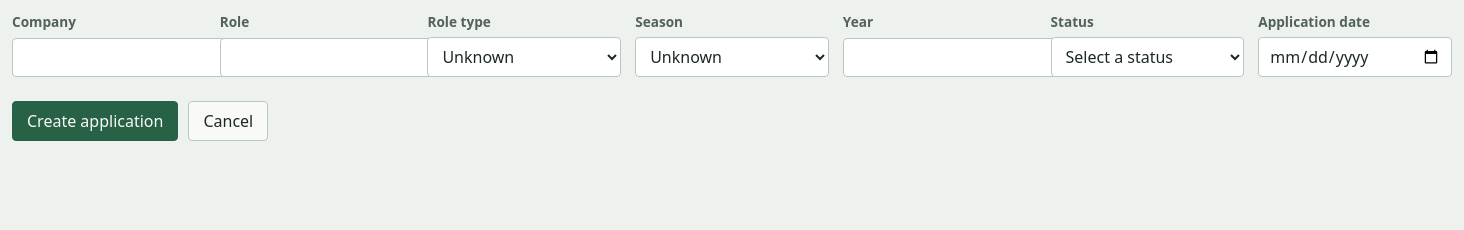
Test: rejects a fractional year
In the field labelled "Company": (138, 58) [12,38,265,77], type "Acme"
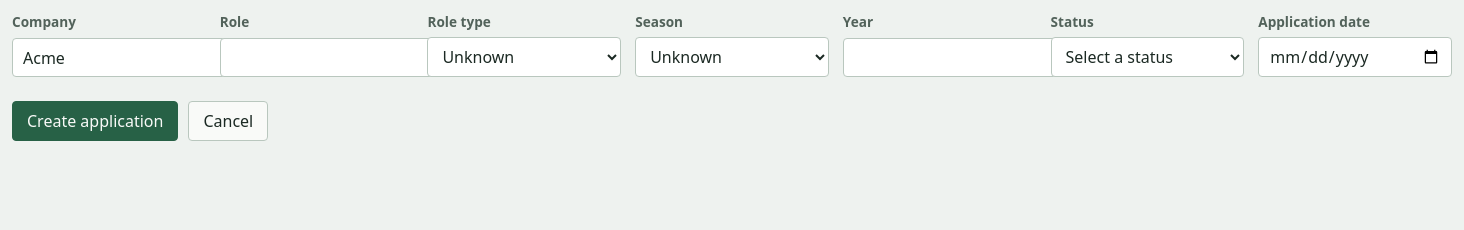
In the field labelled "Role": (346, 58) [220,38,473,77], type "Software Engineer Intern"
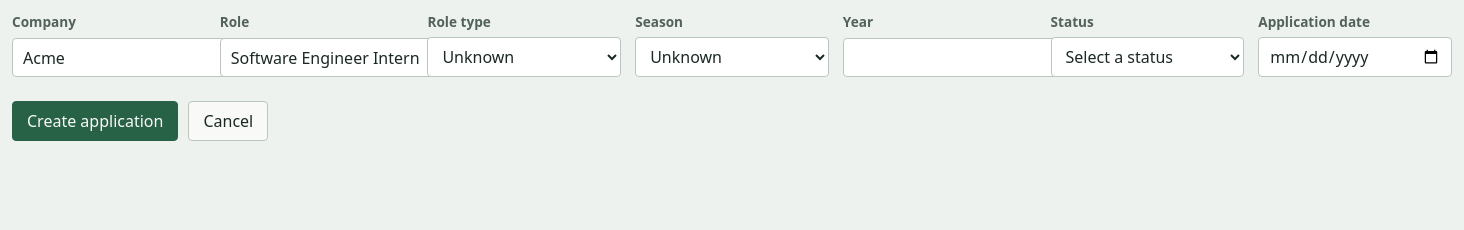
Select "Applied" in the dropdown labelled "Status": (1147, 57) [1051,37,1244,77]
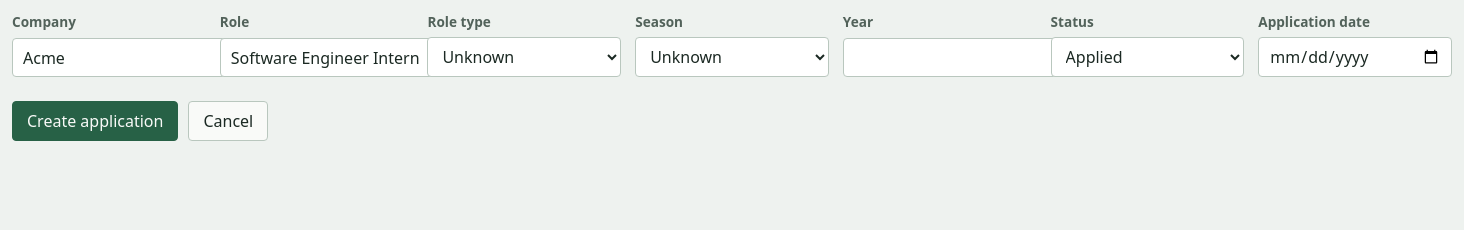
In the number field labelled "Year": (969, 58) [843,38,1096,77], type "2027.5"
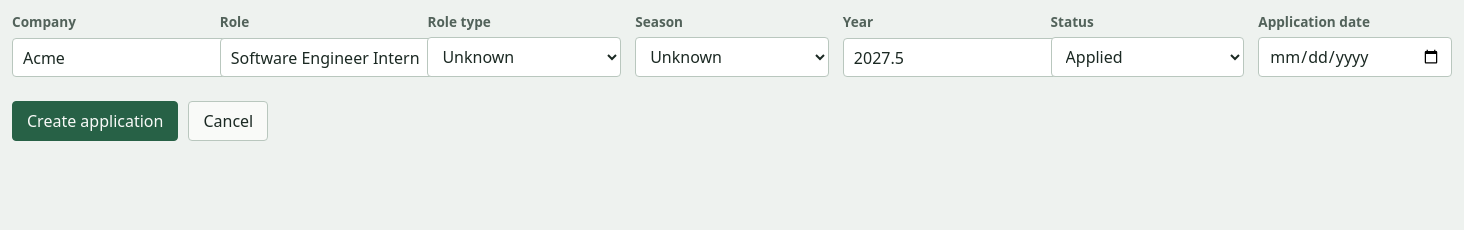
Click the button "Create application": (95, 121) [12,101,178,141]
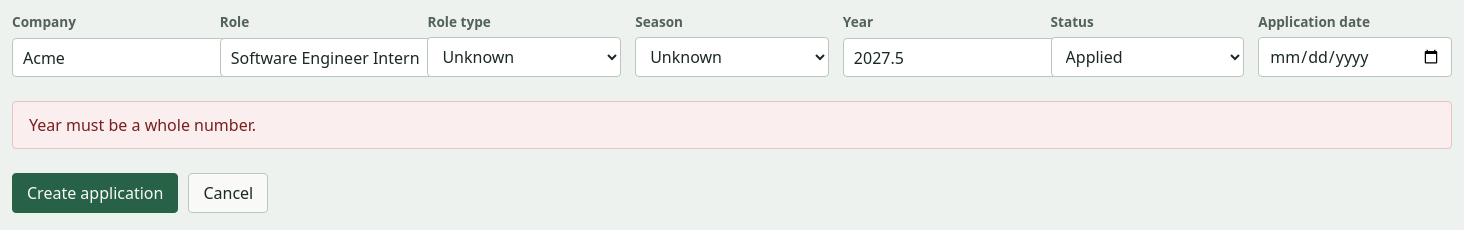
Result: the message reads "Year must be a whole number." at [29,114,256,136]
